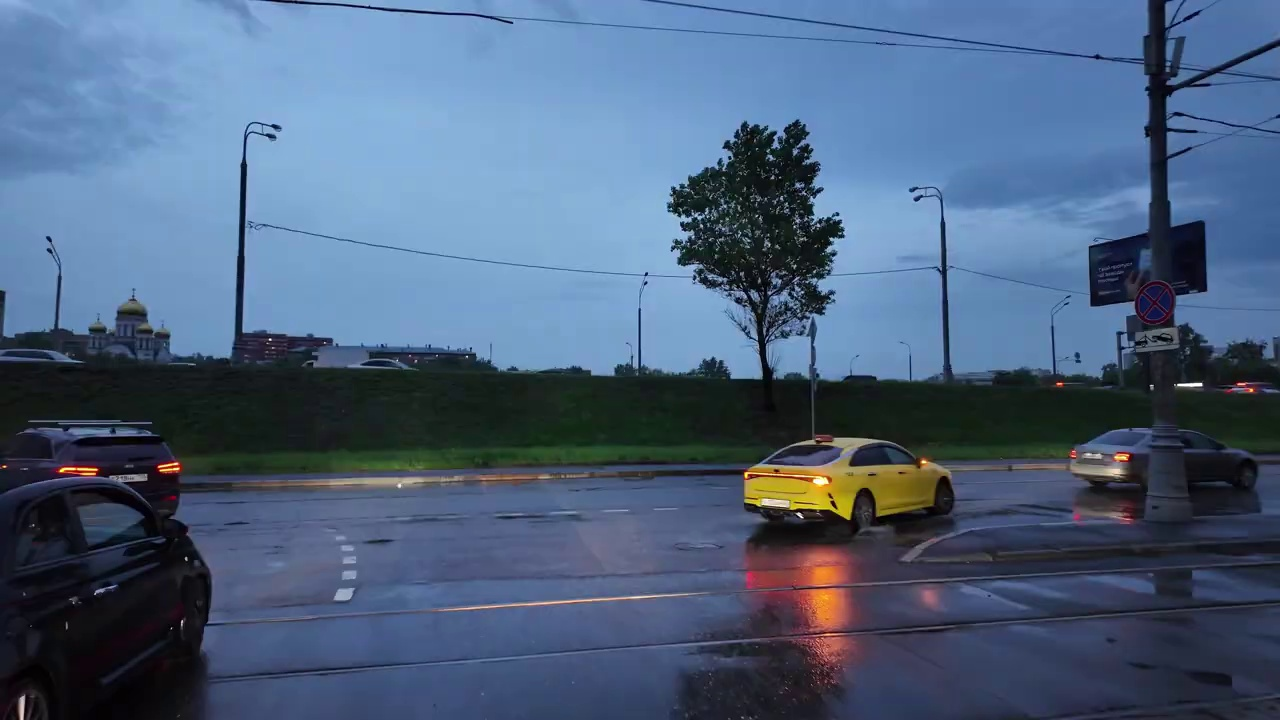apagada: (248, 119, 284, 146), (905, 182, 932, 208), (40, 233, 59, 258)
